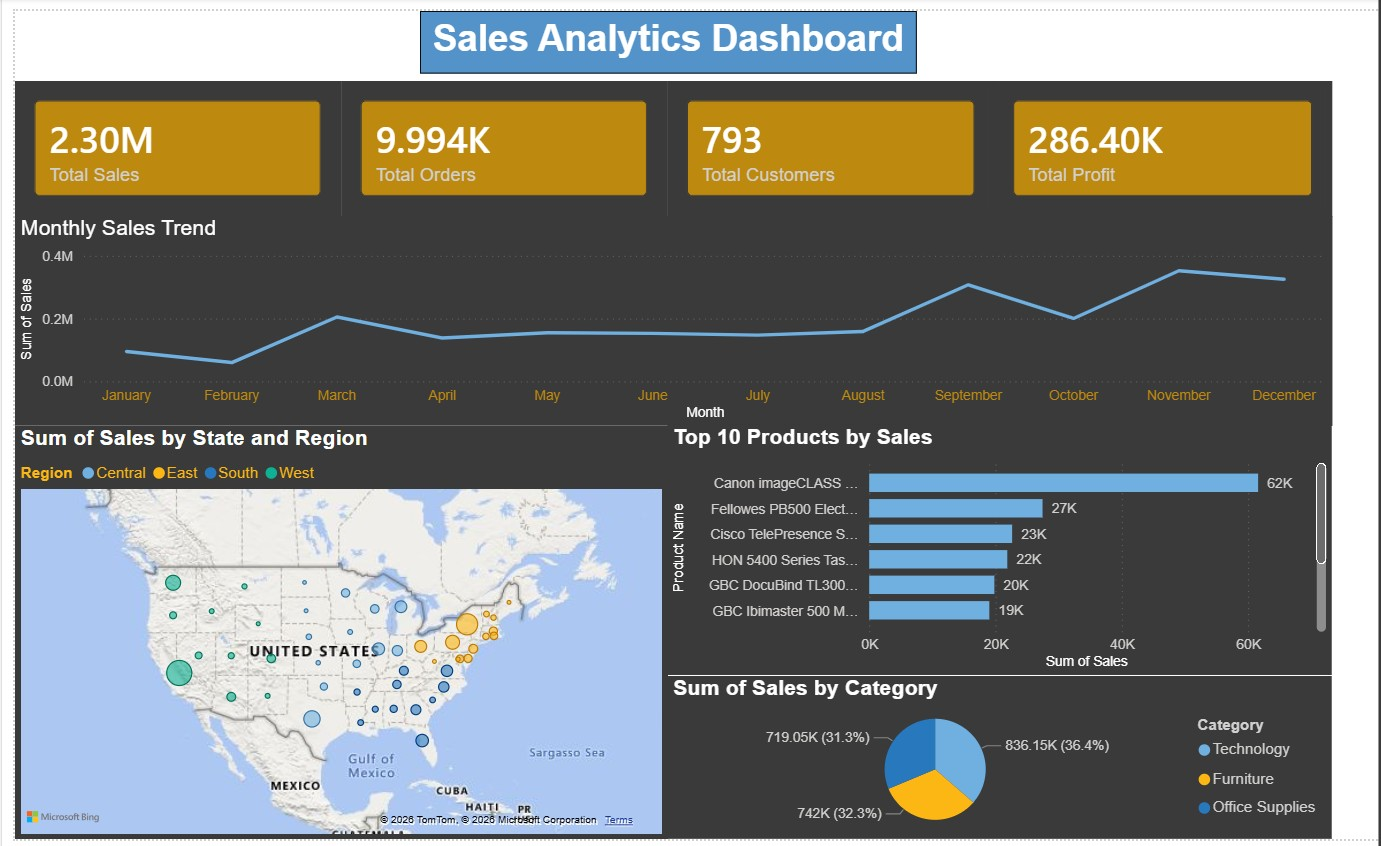

The page's visual inventory and layout, read from the dashboard file:
{"tool":"powerbi","page":{"name":"Page 1","canvas":[1280,720],"ordinal":0},"visuals":[{"type":"cardVisual","fields":{"Data":["Sum(clean_sales_data.Sales)"]},"box":[0,58.9,283.3,110],"z":0},{"type":"cardVisual","fields":{"Data":["CountNonNull(clean_sales_data.Order ID)"]},"box":[283.3,58.9,284.4,110],"z":1000},{"type":"cardVisual","fields":{"Data":["Count(clean_sales_data.Customer ID)"]},"box":[567.8,58.9,284.4,110],"z":2000},{"type":"cardVisual","fields":{"Data":["Sum(clean_sales_data.Profit)"]},"box":[852.2,58.9,283.3,110],"z":3000},{"type":"lineChart","title":"Monthly Sales Trend","fields":{"Category":["clean_sales_data.Order Date.Variation.Date Hierarchy.Month"],"Y":["Sum(clean_sales_data.Sales)"]},"box":[8.9,168.9,1136.7,180],"z":4000},{"type":"map","fields":{"Category":["clean_sales_data.State"],"Series":["clean_sales_data.Region"],"Size":["Sum(clean_sales_data.Sales)"]},"box":[0,360,567.8,347.8],"z":5000},{"type":"clusteredBarChart","title":"Top 10 Products by Sales","fields":{"Category":["clean_sales_data.Product Name"],"Y":["Sum(clean_sales_data.Sales)"]},"box":[567.8,360,577.8,217.8],"z":6000},{"type":"pieChart","fields":{"Category":["clean_sales_data.Category"],"Y":["Sum(clean_sales_data.Sales)"]},"box":[577.8,577.8,567.8,142.2],"z":7000},{"type":"textbox","box":[352.2,0,432.2,54.4],"z":7001}]}

Visuals, with their boxes on the page's 1280x720 design canvas (x1, y1, x2, y2). These are canvas units, not pixel positions in the 1381x846 screenshot, which may show the page scaled, cropped or inside an application window:
cardVisual - Sum(clean_sales_data.Sales): (left=0, top=59, right=283, bottom=169)
cardVisual - CountNonNull(clean_sales_data.Order ID): (left=283, top=59, right=568, bottom=169)
cardVisual - Count(clean_sales_data.Customer ID): (left=568, top=59, right=852, bottom=169)
cardVisual - Sum(clean_sales_data.Profit): (left=852, top=59, right=1136, bottom=169)
"Monthly Sales Trend" lineChart: (left=9, top=169, right=1146, bottom=349)
map - clean_sales_data.State x clean_sales_data.Region: (left=0, top=360, right=568, bottom=708)
"Top 10 Products by Sales" clusteredBarChart: (left=568, top=360, right=1146, bottom=578)
pieChart - clean_sales_data.Category x Sum(clean_sales_data.Sales): (left=578, top=578, right=1146, bottom=720)
textbox: (left=352, top=0, right=784, bottom=54)
